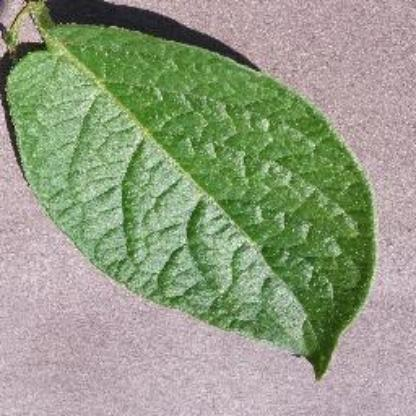Healthy-plant: (10, 11, 384, 391)
